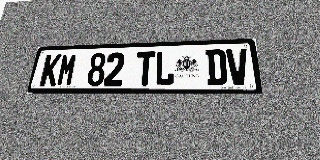2: (104, 52, 125, 86)
8: (86, 53, 108, 86)
D: (206, 49, 228, 86)
K: (39, 54, 62, 86)
L: (154, 51, 174, 86)
M: (56, 54, 78, 86)
T: (135, 51, 155, 86)
V: (226, 48, 250, 85)
